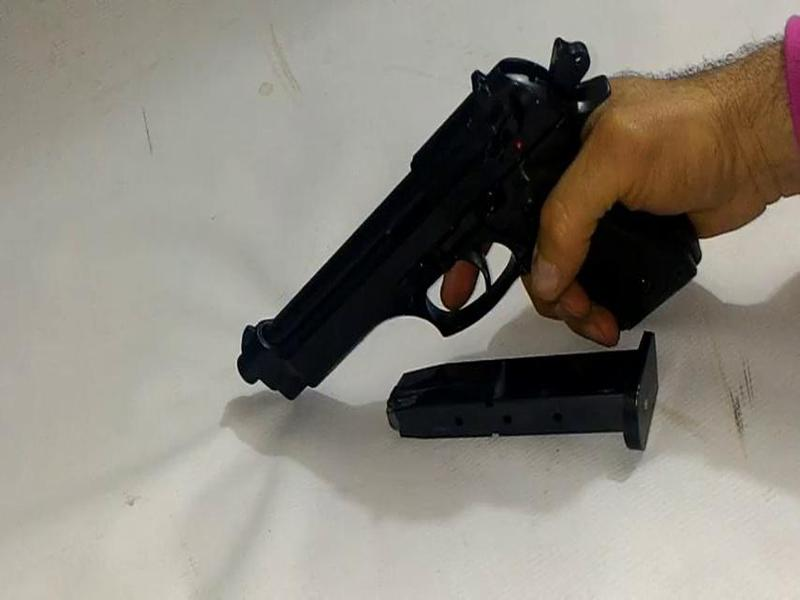Pistola: (216, 31, 742, 374)
